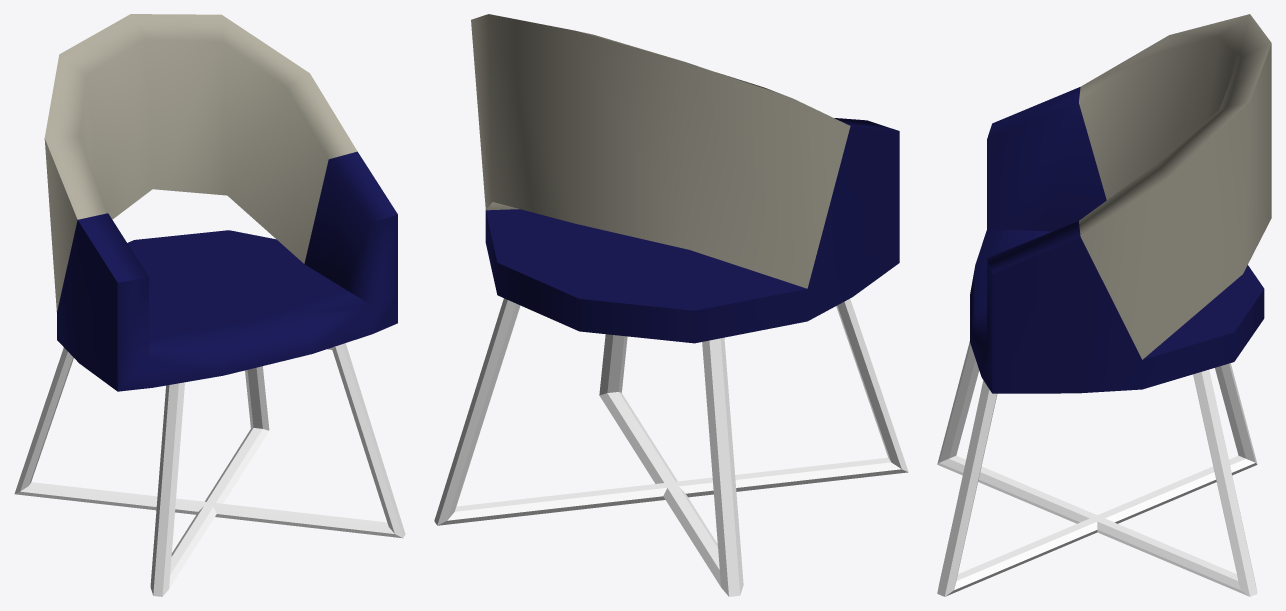
Rendered from BreakOut_Chair.fbx.
The picture shows the model from 3 angles, left to right: view 1: azimuth 30°, elevation 25°; view 2: azimuth 150°, elevation 25°; view 3: azimuth 270°, elevation 25°; orthographic projection. The views are drawn at different scales.
Visible parts, largest first — view 1: BreakOut_Chair; view 2: BreakOut_Chair; view 3: BreakOut_Chair.
Part boxes in pixels (bbox=[...]): BreakOut_Chair: bbox=[14, 14, 405, 596]; BreakOut_Chair: bbox=[434, 14, 908, 596]; BreakOut_Chair: bbox=[937, 14, 1271, 596].
Size of the model in its own units: 81.44 by 123 by 76.55.
